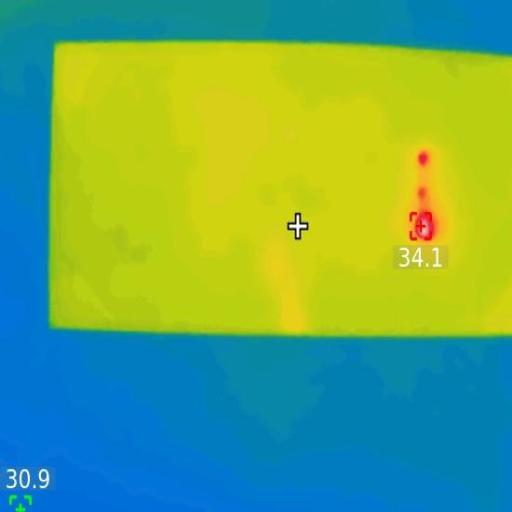hotspot: (415, 212, 439, 240), (416, 150, 430, 169), (416, 186, 430, 198)
